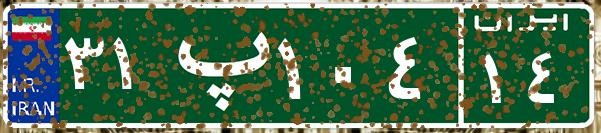0: (330, 28, 385, 110)
1: (273, 28, 330, 110), (475, 38, 525, 113), (110, 28, 158, 105)
3: (57, 26, 110, 107)
4: (385, 28, 445, 110), (525, 38, 570, 115)
پ: (158, 15, 273, 115)
